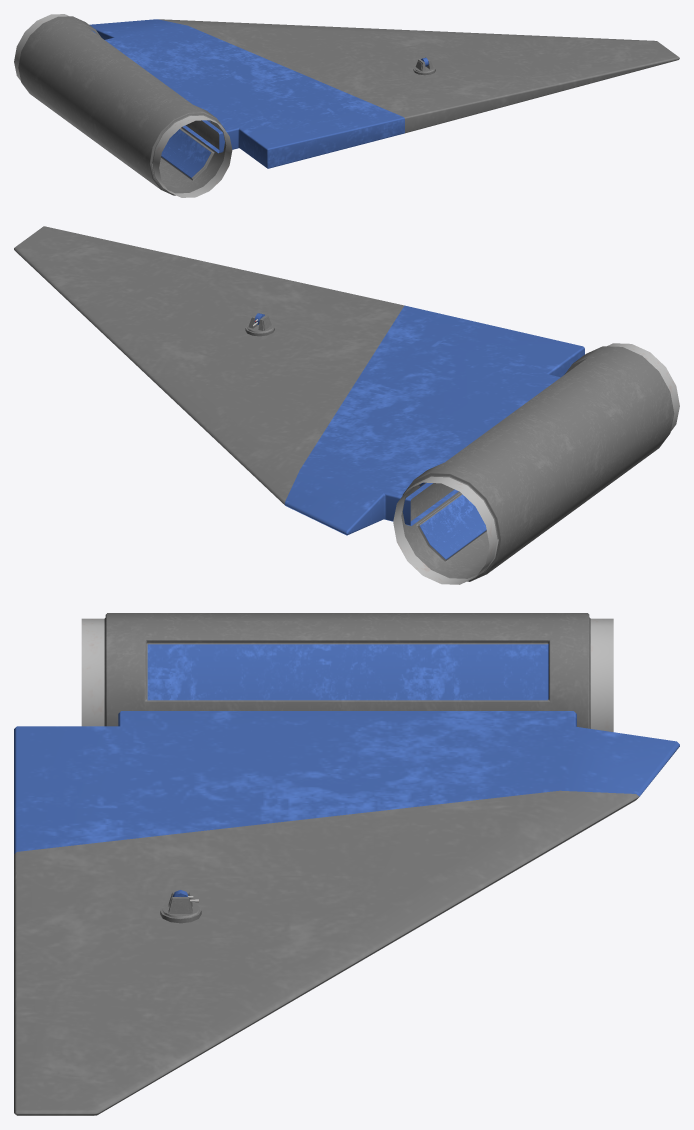
Rendered from SM_UPF-Dropship_Penna_Wing.fbx.
The picture shows the model from 3 angles, top to bottom: view 1: azimuth 30°, elevation 25°; view 2: azimuth 150°, elevation 25°; view 3: azimuth 270°, elevation 25°; orthographic projection. The views are drawn at different scales.
Parts seen in each view (by area): view 1: Wing, ThrusterMiddle, Turret_Base.000; view 2: Wing, ThrusterMiddle; view 3: Wing, ThrusterMiddle, Turret_Base.000.
Boxes of the visible parts, x1,y1,x2,y2 form: Wing: (89, 19, 679, 168); ThrusterMiddle: (14, 14, 232, 197); Turret_Base.000: (413, 57, 435, 75); Wing: (14, 226, 584, 535); ThrusterMiddle: (393, 343, 679, 584); Wing: (14, 711, 679, 1115); ThrusterMiddle: (81, 613, 613, 731); Turret_Base.000: (160, 890, 201, 923).
Bounding box in the file's own units: 2570 × 400 × 1597.
